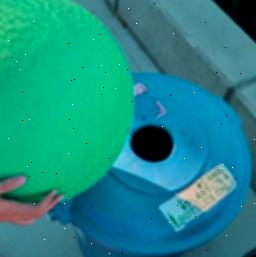algae: (0, 0, 131, 204)
